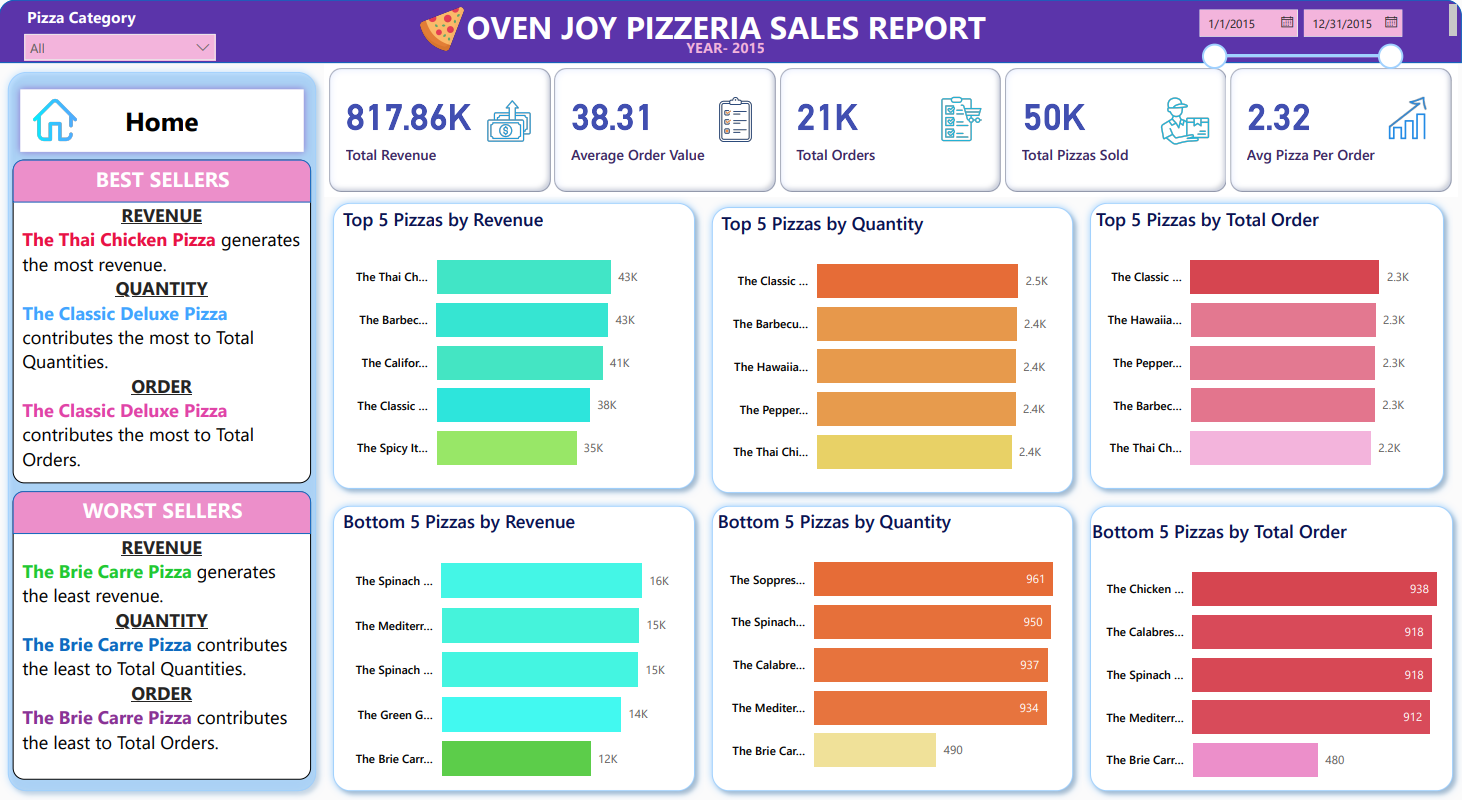

The dashboard page shown, as its layout file describes it:
{"tool":"powerbi","page":{"name":"Bestsellers","canvas":[1500,820],"ordinal":1},"visuals":[{"type":"cardVisual","fields":{"Data":["public pizza_sales.Total Revenue","public pizza_sales.Average Order Value","public pizza_sales.Total Orders","public pizza_sales.Total Pizzas Sold","public pizza_sales.Average Pizzas Per Order"]},"box":[334,66,1162,136],"z":0},{"type":"shape","box":[0,0,1500,65],"z":1000},{"type":"textbox","box":[0,0,1500,46.7],"z":2000},{"type":"textbox","box":[700,33.3,118.3,31.7],"z":3000},{"type":"image","box":[402,2,104,56],"z":4000},{"type":"shape","box":[334,200,388,310],"z":5000},{"type":"shape","box":[1110,200,380,310],"z":7000},{"type":"shape","box":[334,510,388,310],"z":9000},{"type":"shape","box":[722,204,388,310],"z":10000},{"type":"shape","box":[1110,510,390,310],"z":11000},{"type":"shape","box":[0,66,334,754],"z":15000},{"type":"textbox","box":[14,504,306,296],"z":16000},{"type":"shape","box":[14,504,306,44],"z":17000},{"type":"textbox","box":[56,504,224,44],"z":18000},{"type":"slicer","fields":{"Values":["public pizza_sales.order_date"]},"box":[1218,0,230,84],"z":19000},{"type":"slicer","fields":{"Values":["public pizza_sales.pizza_category"]},"box":[16,2,216,66],"z":20000},{"type":"shape","box":[722,510,388,310],"z":20001},{"type":"barChart","title":"Top 5 Pizzas by Revenue","fields":{"Category":["public pizza_sales.pizza_name"],"Y":["public pizza_sales.Total Revenue"]},"box":[348,212,352,288],"z":20002},{"type":"barChart","title":"Bottom 5 Pizzas by Revenue","fields":{"Category":["public pizza_sales.pizza_name"],"Y":["public pizza_sales.Total Revenue"]},"box":[348,522,374,298],"z":20003},{"type":"barChart","title":"Top 5 Pizzas by Quantity","fields":{"Category":["public pizza_sales.pizza_name"],"Y":["public pizza_sales.Total Pizzas Sold"]},"box":[736,216,360,288],"z":20004},{"type":"barChart","title":"Top 5 Pizzas by Total Order","fields":{"Category":["public pizza_sales.pizza_name"],"Y":["public pizza_sales.Total Orders"]},"box":[1120,212,356,288],"z":20005},{"type":"barChart","title":"Bottom 5 Pizzas by Quantity","fields":{"Category":["public pizza_sales.pizza_name"],"Y":["public pizza_sales.Total Pizzas Sold"]},"box":[732,522,364,288],"z":20006},{"type":"barChart","title":"Bottom 5 Pizzas by Total Order","fields":{"Category":["public pizza_sales.pizza_name"],"Y":["public pizza_sales.Total Orders"]},"box":[1116,532,380,288],"z":20007},{"type":"textbox","box":[14,164,306,332],"z":20008},{"type":"shape","box":[14,164,306,44],"z":20009},{"type":"textbox","box":[88,164,160,44],"z":20010},{"type":"pageNavigator","box":[14,84,306,80],"z":20011},{"type":"image","box":[16,96,82,54],"z":20012}]}

Visuals, with their boxes in screenshot pixels (x1, y1, x2, y2), scaled from the page's 1500x820 canvas onto the 1462x807 screenshot:
cardVisual - public pizza_sales.Total Revenue x public pizza_sales.Average Order Value: {"x1": 326, "y1": 65, "x2": 1458, "y2": 199}
shape: {"x1": 0, "y1": 0, "x2": 1461, "y2": 64}
textbox: {"x1": 0, "y1": 0, "x2": 1461, "y2": 46}
textbox: {"x1": 682, "y1": 33, "x2": 798, "y2": 64}
image: {"x1": 392, "y1": 2, "x2": 493, "y2": 57}
shape: {"x1": 326, "y1": 197, "x2": 704, "y2": 502}
shape: {"x1": 1082, "y1": 197, "x2": 1452, "y2": 502}
shape: {"x1": 326, "y1": 502, "x2": 704, "y2": 806}
shape: {"x1": 704, "y1": 201, "x2": 1082, "y2": 506}
shape: {"x1": 1082, "y1": 502, "x2": 1461, "y2": 806}
shape: {"x1": 0, "y1": 65, "x2": 326, "y2": 806}
textbox: {"x1": 14, "y1": 496, "x2": 312, "y2": 787}
shape: {"x1": 14, "y1": 496, "x2": 312, "y2": 539}
textbox: {"x1": 55, "y1": 496, "x2": 273, "y2": 539}
slicer - public pizza_sales.order_date: {"x1": 1187, "y1": 0, "x2": 1411, "y2": 83}
slicer - public pizza_sales.pizza_category: {"x1": 16, "y1": 2, "x2": 226, "y2": 67}
shape: {"x1": 704, "y1": 502, "x2": 1082, "y2": 806}
"Top 5 Pizzas by Revenue" barChart: {"x1": 339, "y1": 209, "x2": 682, "y2": 492}
"Bottom 5 Pizzas by Revenue" barChart: {"x1": 339, "y1": 514, "x2": 704, "y2": 806}
"Top 5 Pizzas by Quantity" barChart: {"x1": 717, "y1": 213, "x2": 1068, "y2": 496}
"Top 5 Pizzas by Total Order" barChart: {"x1": 1092, "y1": 209, "x2": 1439, "y2": 492}
"Bottom 5 Pizzas by Quantity" barChart: {"x1": 713, "y1": 514, "x2": 1068, "y2": 797}
"Bottom 5 Pizzas by Total Order" barChart: {"x1": 1088, "y1": 524, "x2": 1458, "y2": 806}
textbox: {"x1": 14, "y1": 161, "x2": 312, "y2": 488}
shape: {"x1": 14, "y1": 161, "x2": 312, "y2": 205}
textbox: {"x1": 86, "y1": 161, "x2": 242, "y2": 205}
pageNavigator: {"x1": 14, "y1": 83, "x2": 312, "y2": 161}
image: {"x1": 16, "y1": 94, "x2": 96, "y2": 148}
